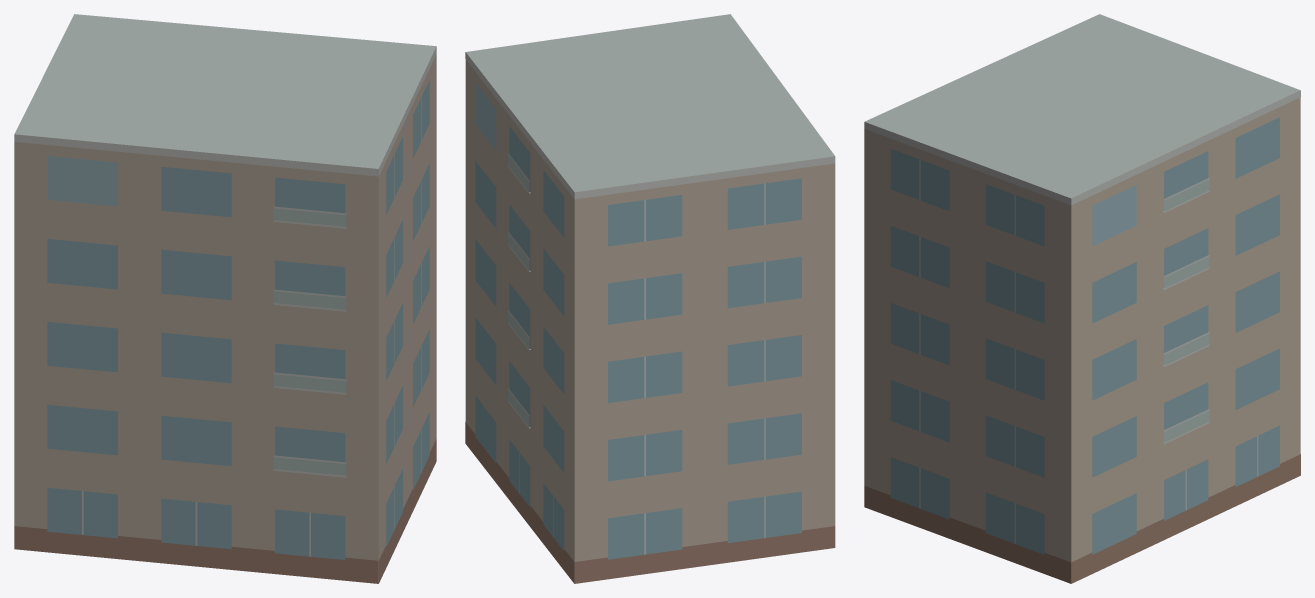
The model's file is survey-upis-33046287.glb.
The picture shows the model from 3 angles, left to right: view 1: azimuth 30°, elevation 25°; view 2: azimuth 150°, elevation 25°; view 3: azimuth 270°, elevation 25°; orthographic projection. The views are drawn at different scales.
Parts seen in each view (by area): view 1: survey-upis-33046287.tmp; view 2: survey-upis-33046287.tmp; view 3: survey-upis-33046287.tmp.
Part boxes in pixels (x1=…): survey-upis-33046287.tmp: x1=14, y1=14, x2=436, y2=583; survey-upis-33046287.tmp: x1=465, y1=14, x2=835, y2=583; survey-upis-33046287.tmp: x1=864, y1=14, x2=1300, y2=583.
Size of the model in its own units: 13.87 by 13.5 by 13.86.
